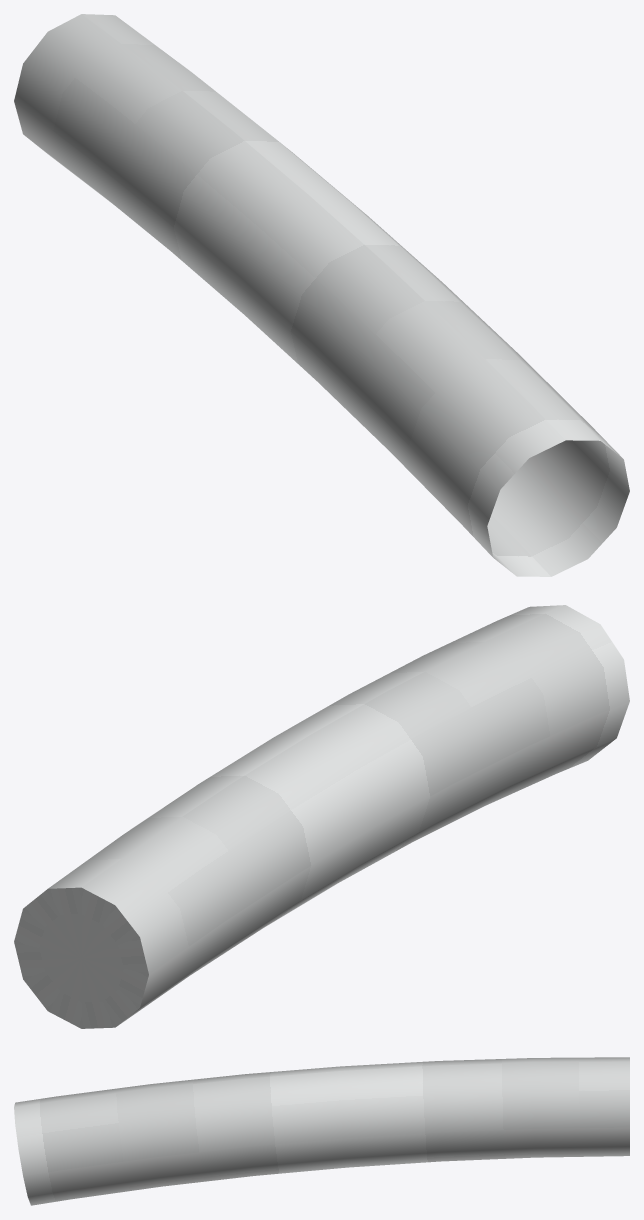
Rendered from luminairearm_vannuystriple_c16.obj.
3 renders of one model, top to bottom at view 1: azimuth 30°, elevation 25°; view 2: azimuth 150°, elevation 25°; view 3: azimuth 270°, elevation 25°, orthographic. The views are drawn at different scales.
Visible parts, largest first — view 1: luminairearm_vannuystriple_c16; view 2: luminairearm_vannuystriple_c16; view 3: luminairearm_vannuystriple_c16.
Boxes of the visible parts, <box> form: luminairearm_vannuystriple_c16: <box>14,14,629,576</box>; luminairearm_vannuystriple_c16: <box>14,605,629,1028</box>; luminairearm_vannuystriple_c16: <box>14,1057,629,1205</box>.
Bounding box in the file's own units: 0.1717 × 0.2517 × 1.01.
